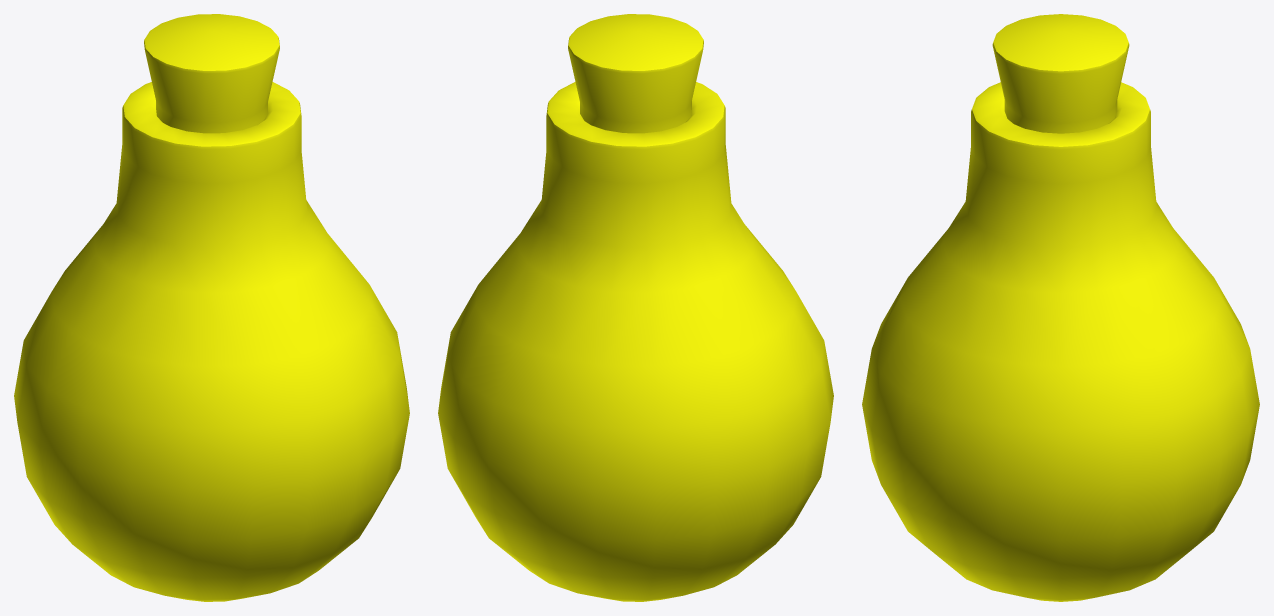
Rendered from potion.glb.
3 renders of one model, left to right at view 1: azimuth 30°, elevation 25°; view 2: azimuth 150°, elevation 25°; view 3: azimuth 270°, elevation 25°, orthographic.
Visible parts, largest first — view 1: Potion; view 2: Potion; view 3: Potion.
Part boxes in pixels (<box>): Potion: <box>14,14,409,601</box>; Potion: <box>438,14,833,601</box>; Potion: <box>862,14,1259,601</box>.
Bounding box in the file's own units: 0.4915 × 0.7543 × 0.4915.
1 material, 1 textured.
